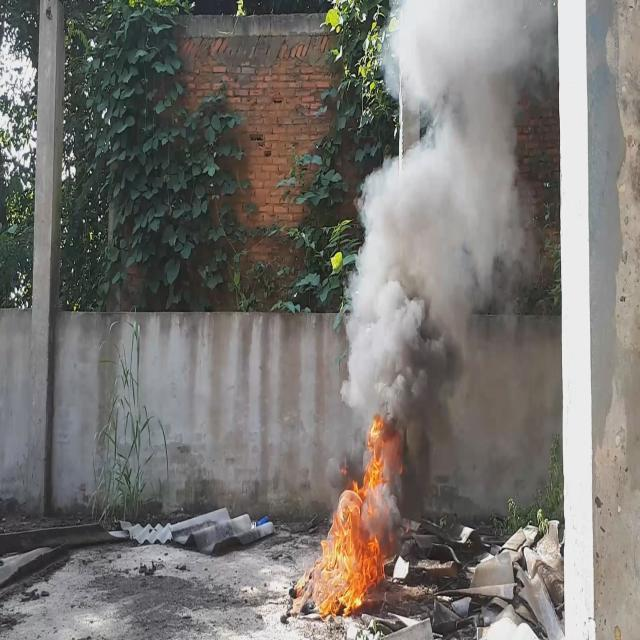Fire: (316, 416, 402, 622)
Smoke: (340, 0, 558, 433)
